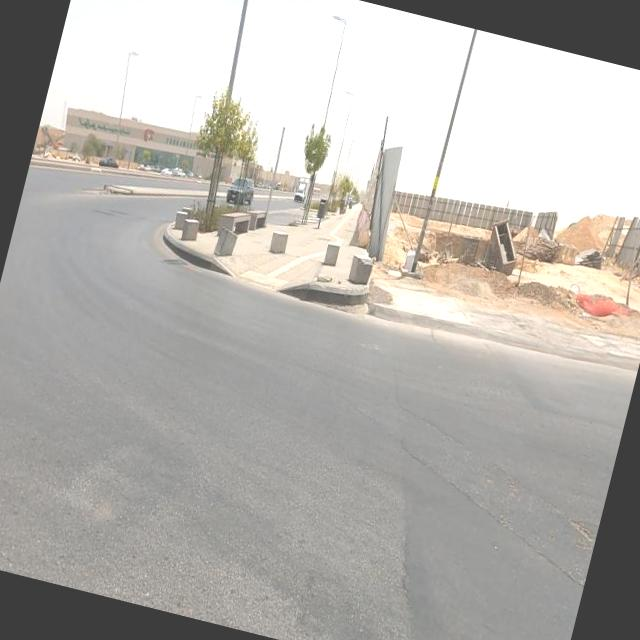debris: (414, 146, 580, 343), (519, 234, 640, 375), (359, 202, 457, 322)
